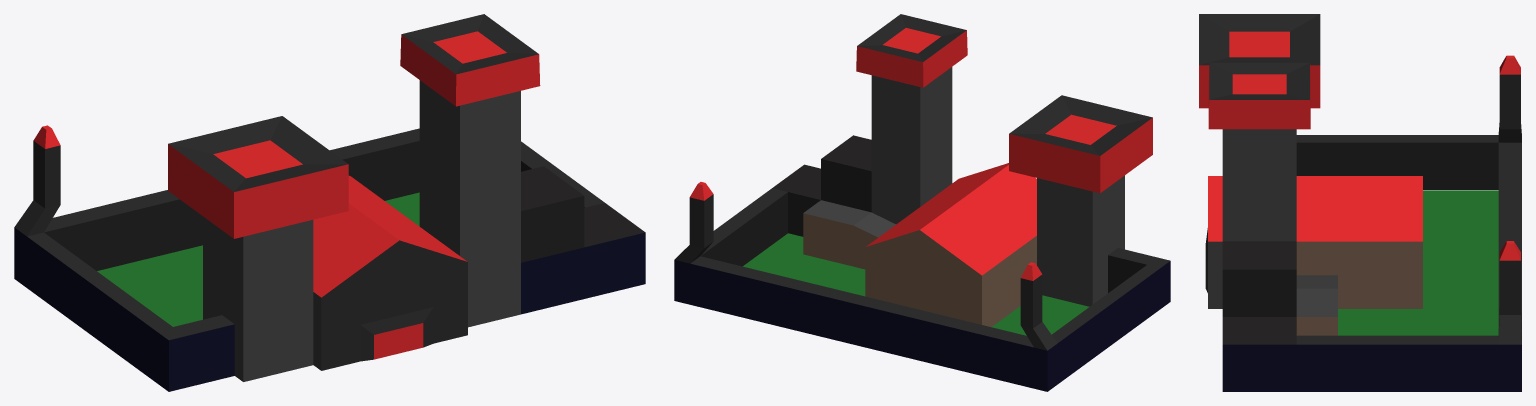
Rendered from Mini_Castle__RED_Model_01.fbx.
3 views of the same model, side by side, from view 1: azimuth 30°, elevation 25°; view 2: azimuth 150°, elevation 25°; view 3: azimuth 270°, elevation 25° (orthographic). The views are drawn at different scales.
Parts seen in each view (by area): view 1: Cube.001; view 2: Cube.001; view 3: Cube.001.
Boxes of the visible parts, x1=… form: Cube.001: x1=14, y1=14, x2=645, y2=391; Cube.001: x1=674, y1=14, x2=1170, y2=391; Cube.001: x1=1199, y1=14, x2=1521, y2=391.
Size of the model in its own units: 1337 by 718 by 871.
